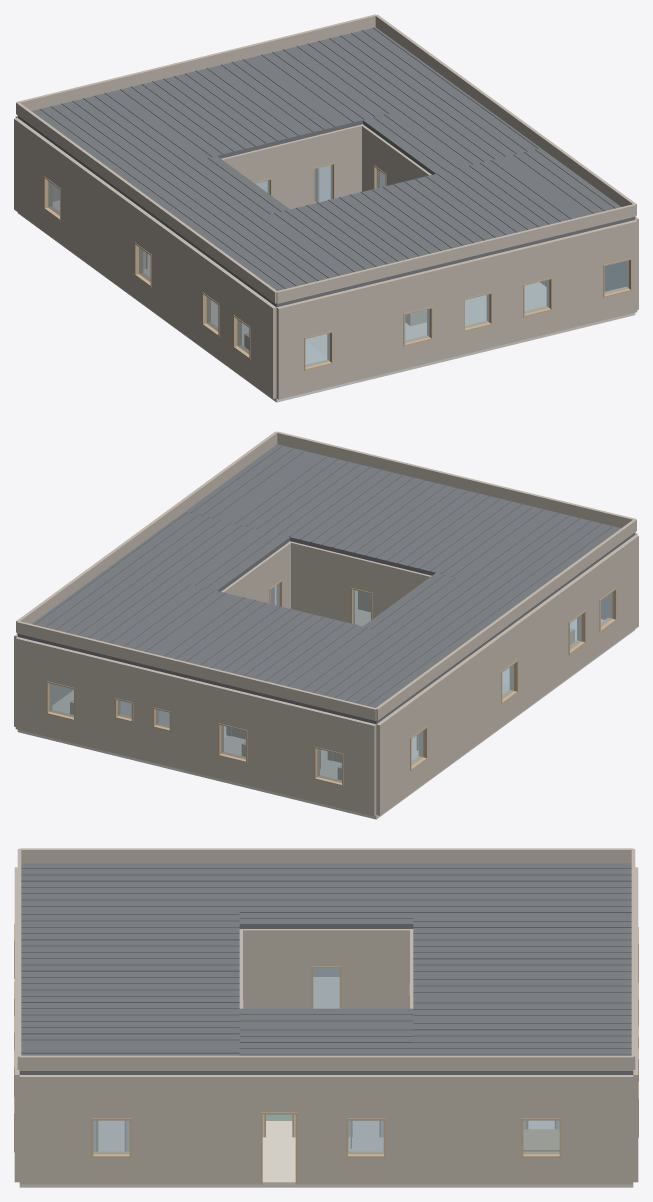
3 renders of one model, top to bottom at view 1: azimuth 30°, elevation 25°; view 2: azimuth 150°, elevation 25°; view 3: azimuth 270°, elevation 25°, orthographic. The views are drawn at different scales.
Parts seen in each view (by area): view 1: wall:W-9cc025dc41bd (×6), roof:roof-living, wall:W-80f0de844ffc (×4), roof:roof-bedroom-1, wall:W-c5ebe82f5b4f (×4), wall:W-b6febb79fa47 (×4), roof:roof-dining, wall:W-3fbd13097563 (×4), roof:roof-bedroom-3, roof:roof-bedroom-2, roof:roof-kitchen, roof:parapet-living (+35 smaller); view 2: roof:roof-living, wall:W-2123eda892ce (×4), wall:W-3370dc335148 (×4), wall:W-e0f26eca0464 (×4), wall:W-80f0de844ffc (×4), wall:W-c5ebe82f5b4f (×4), roof:roof-dining, wall:W-3fbd13097563 (×4), roof:roof-bedroom-1, wall:W-8bdcbcf73927 (×2), roof:roof-kitchen, roof:roof-bedroom-3 (+34 smaller); view 3: roof:roof-living, wall:W-e8e1a32730bd (×4), wall:W-51e5bd69a6fa (×4), wall:W-9c931e1cdbe0 (×3), roof:roof-dining, roof:roof-bedroom-1, roof:roof-kitchen, wall:W-14fe234c85d4 (×4), roof:roof-bedroom-2, roof:roof-bedroom-3, wall:W-4859a319fa9e (×3), roof:roof-bath-1 (+37 smaller).
Part boxes in pixels (left/top/right/bottom): wall:W-9cc025dc41bd (×6): left=357, top=229, right=597, bottom=379; roof:roof-living: left=264, top=157, right=595, bottom=287; wall:W-80f0de844ffc (×4): left=180, top=239, right=276, bottom=398; roof:roof-bedroom-1: left=109, top=67, right=286, bottom=148; wall:W-c5ebe82f5b4f (×4): left=14, top=118, right=94, bottom=265; wall:W-b6febb79fa47 (×4): left=276, top=288, right=358, bottom=399; roof:roof-dining: left=110, top=156, right=289, bottom=238; wall:W-3fbd13097563 (×4): left=106, top=186, right=183, bottom=330; roof:roof-bedroom-3: left=286, top=27, right=451, bottom=104; roof:roof-bedroom-2: left=17, top=92, right=185, bottom=173; roof:roof-kitchen: left=183, top=216, right=356, bottom=307; roof:parapet-living: left=356, top=213, right=596, bottom=284; roof:roof-living: left=224, top=453, right=554, bottom=579; wall:W-2123eda892ce (×4): left=182, top=677, right=284, bottom=794; wall:W-3370dc335148 (×4): left=283, top=702, right=376, bottom=816; wall:W-e0f26eca0464 (×4): left=15, top=637, right=107, bottom=750; wall:W-80f0de844ffc (×4): left=543, top=535, right=638, bottom=693; wall:W-c5ebe82f5b4f (×4): left=376, top=667, right=457, bottom=815; roof:roof-dining: left=363, top=573, right=542, bottom=655; wall:W-3fbd13097563 (×4): left=469, top=603, right=546, bottom=747; roof:roof-bedroom-1: left=184, top=617, right=362, bottom=701; wall:W-8bdcbcf73927 (×2): left=289, top=541, right=431, bottom=623; roof:roof-kitchen: left=463, top=512, right=635, bottom=602; roof:roof-bedroom-3: left=17, top=576, right=185, bottom=658; roof:roof-living: left=21, top=908, right=239, bottom=1046; wall:W-e8e1a32730bd (×4): left=19, top=1075, right=203, bottom=1184; wall:W-51e5bd69a6fa (×4): left=449, top=1075, right=633, bottom=1184; wall:W-9c931e1cdbe0 (×3): left=240, top=929, right=411, bottom=1008; roof:roof-dining: left=239, top=863, right=413, bottom=928; roof:roof-bedroom-1: left=449, top=915, right=631, bottom=973; roof:roof-kitchen: left=21, top=863, right=239, bottom=908; wall:W-14fe234c85d4 (×4): left=318, top=1075, right=413, bottom=1184; roof:roof-bedroom-2: left=449, top=863, right=631, bottom=914; roof:roof-bedroom-3: left=449, top=1017, right=633, bottom=1074; wall:W-4859a319fa9e (×3): left=239, top=1075, right=318, bottom=1184; roof:roof-bath-1: left=449, top=973, right=631, bottom=996.
Bounding box in the file's own units: 15.24 × 4.39 × 18.97.
